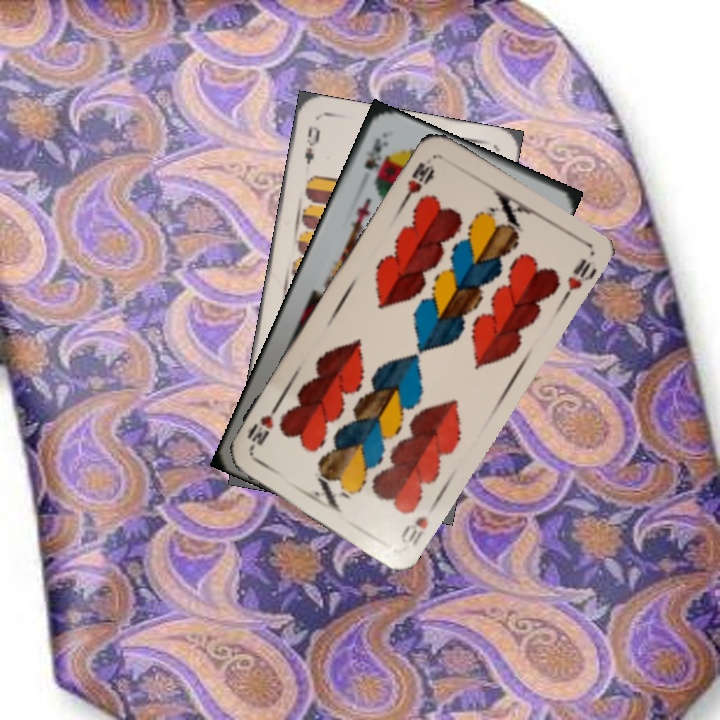E9: (300, 122, 323, 167)
H10: (396, 498, 439, 550), (399, 158, 438, 206)
SK: (360, 134, 391, 173)
